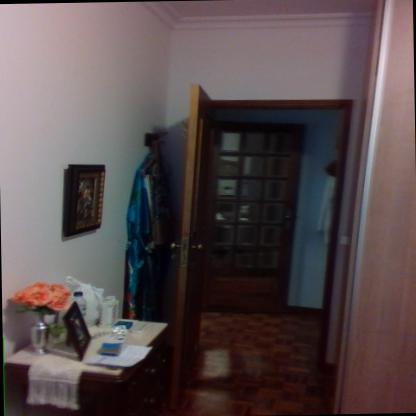open: (160, 77, 369, 415)
